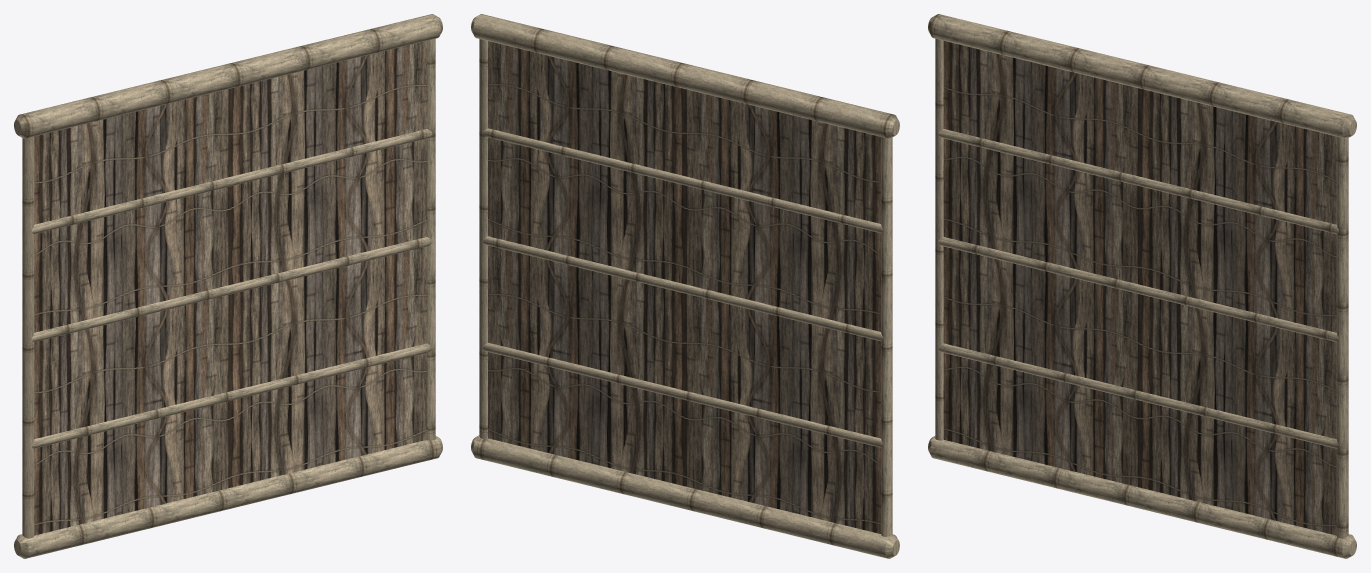
The model's file is wall.glb.
3 renders of one model, left to right at view 1: azimuth 30°, elevation 25°; view 2: azimuth 150°, elevation 25°; view 3: azimuth 330°, elevation 25°, orthographic.
Visible parts, largest first — view 1: wall; view 2: wall; view 3: wall.
Part boxes in pixels (x1=…): wall: x1=14, y1=14, x2=442, y2=558; wall: x1=471, y1=14, x2=899, y2=558; wall: x1=928, y1=14, x2=1356, y2=558.
Size of the model in its own units: 5.42 by 5.44 by 0.2758.
2 materials, 2 textured.
